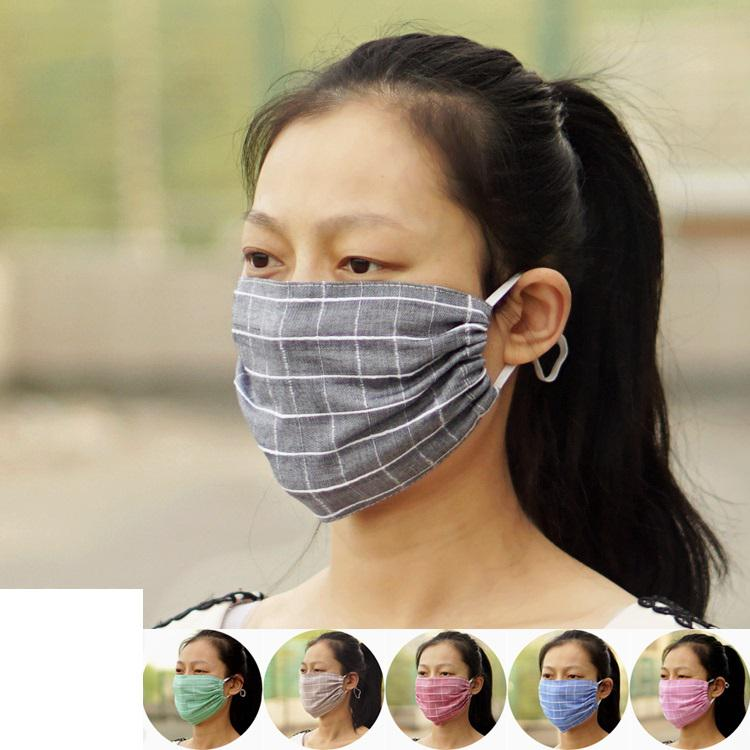OK: (218, 189, 525, 496), (536, 662, 602, 728), (167, 657, 232, 722), (655, 662, 719, 726), (412, 658, 475, 721), (292, 655, 353, 716)
